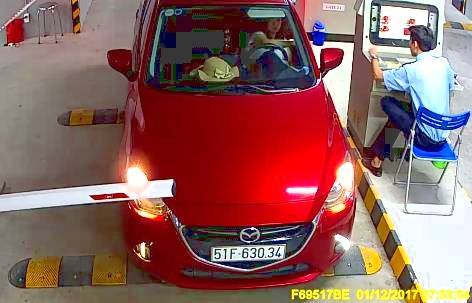plate: (210, 242, 286, 260)
